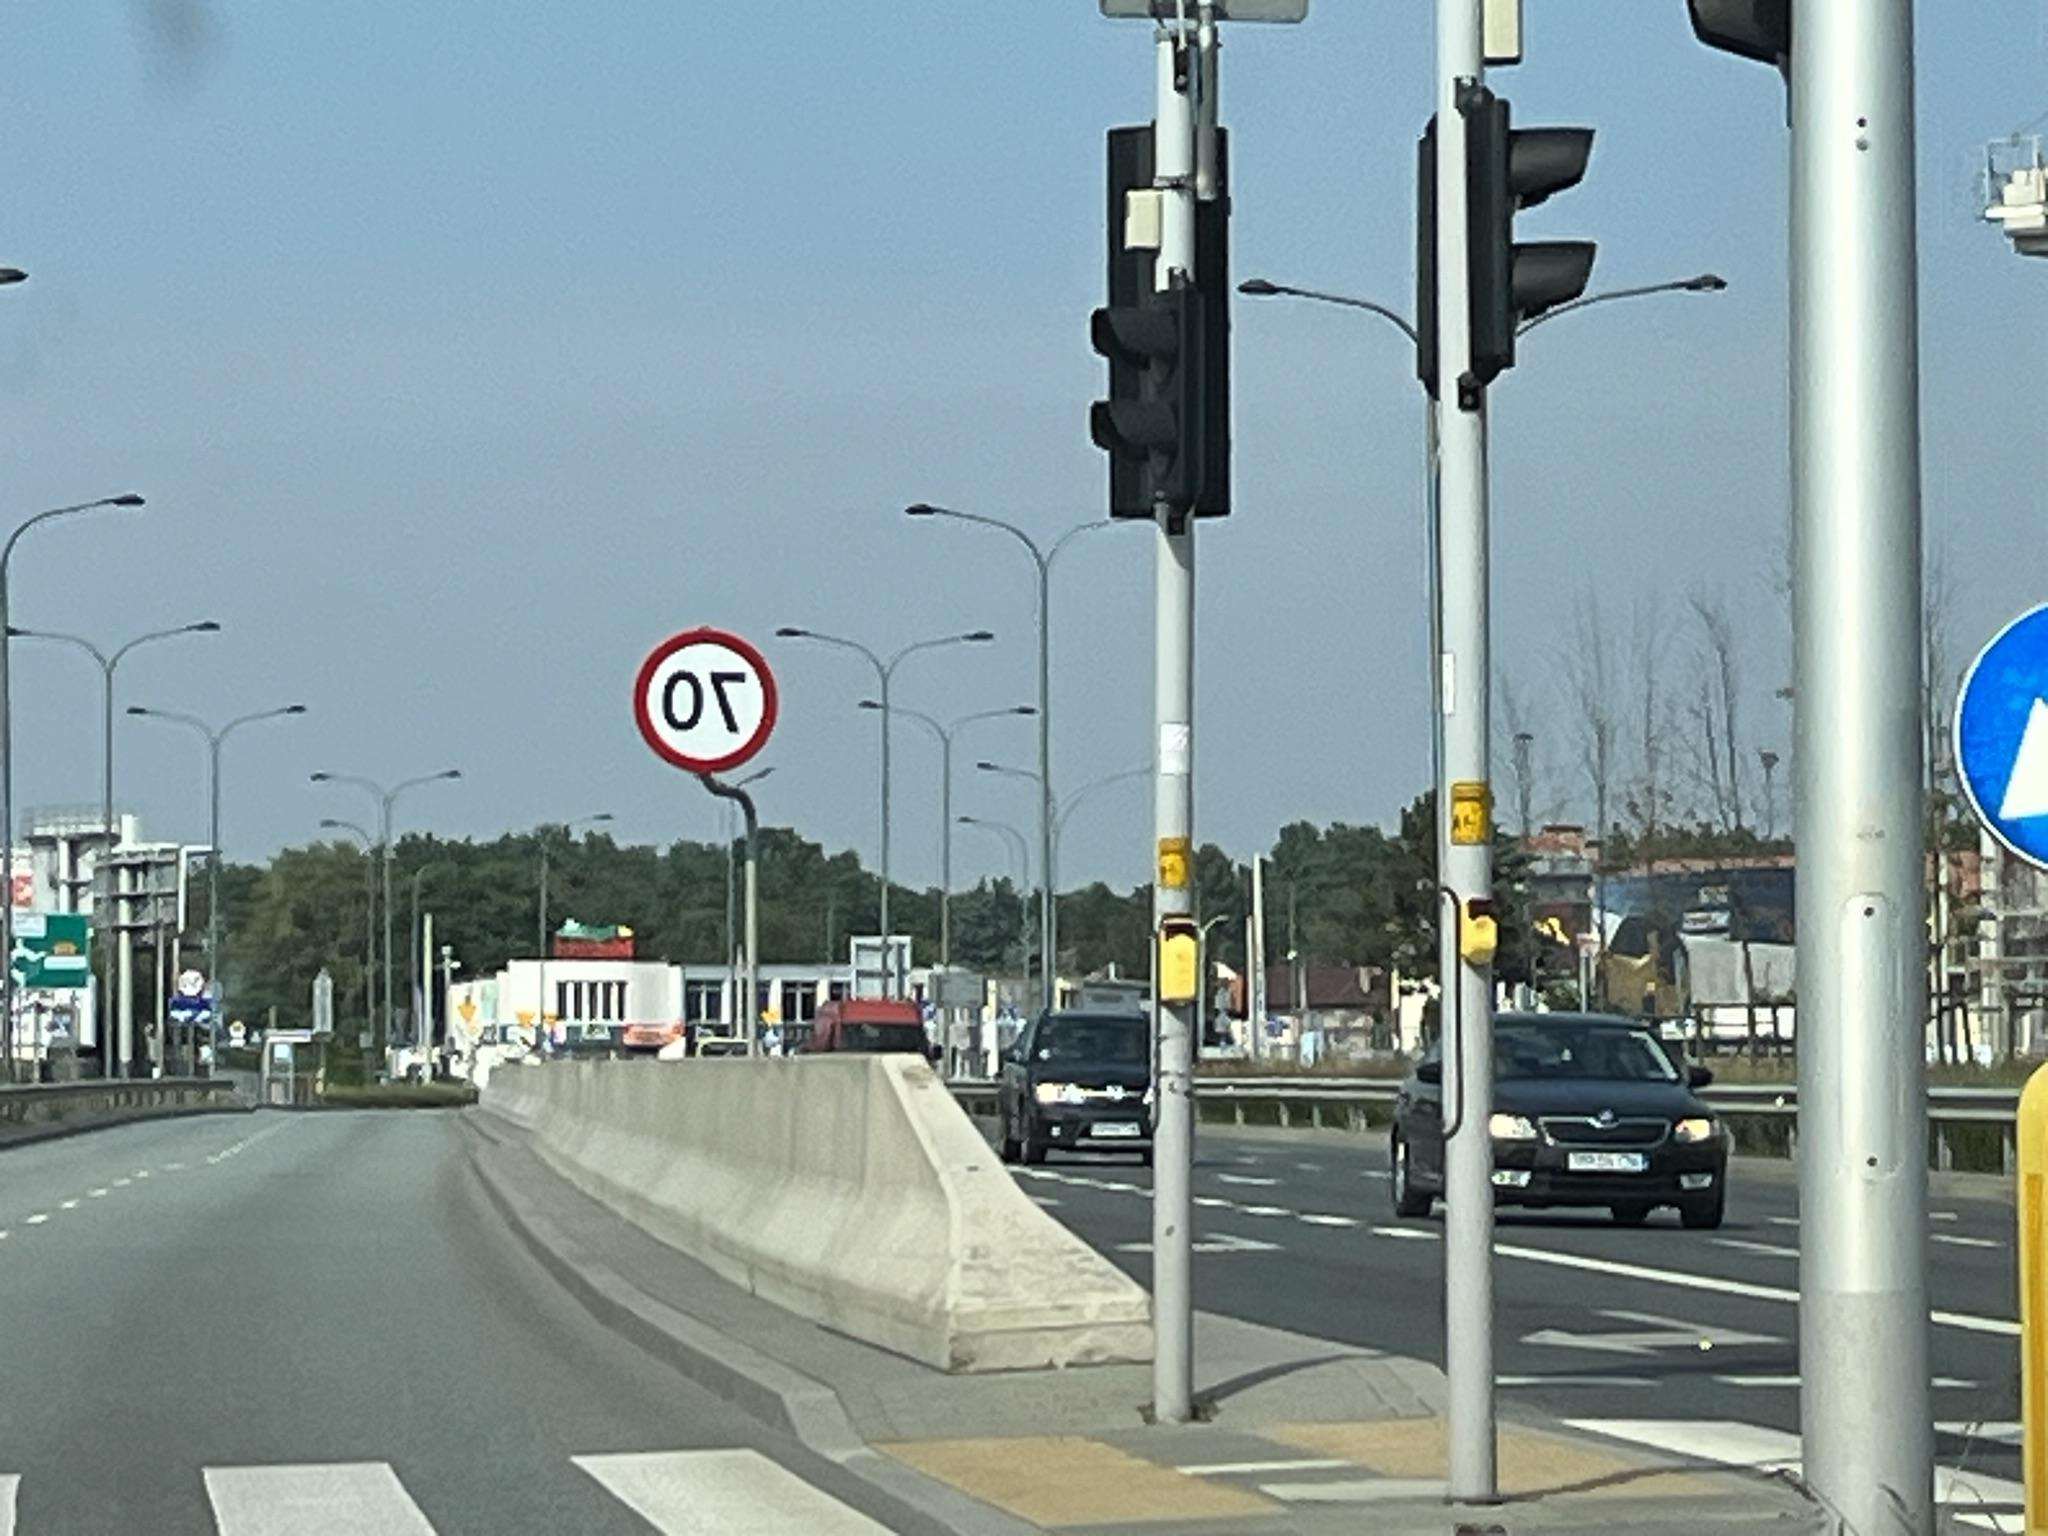direction-city: (0, 918, 92, 992)
mandatory: (1954, 594, 2048, 886)
prohibitory: (631, 623, 777, 776), (181, 968, 205, 1000)
